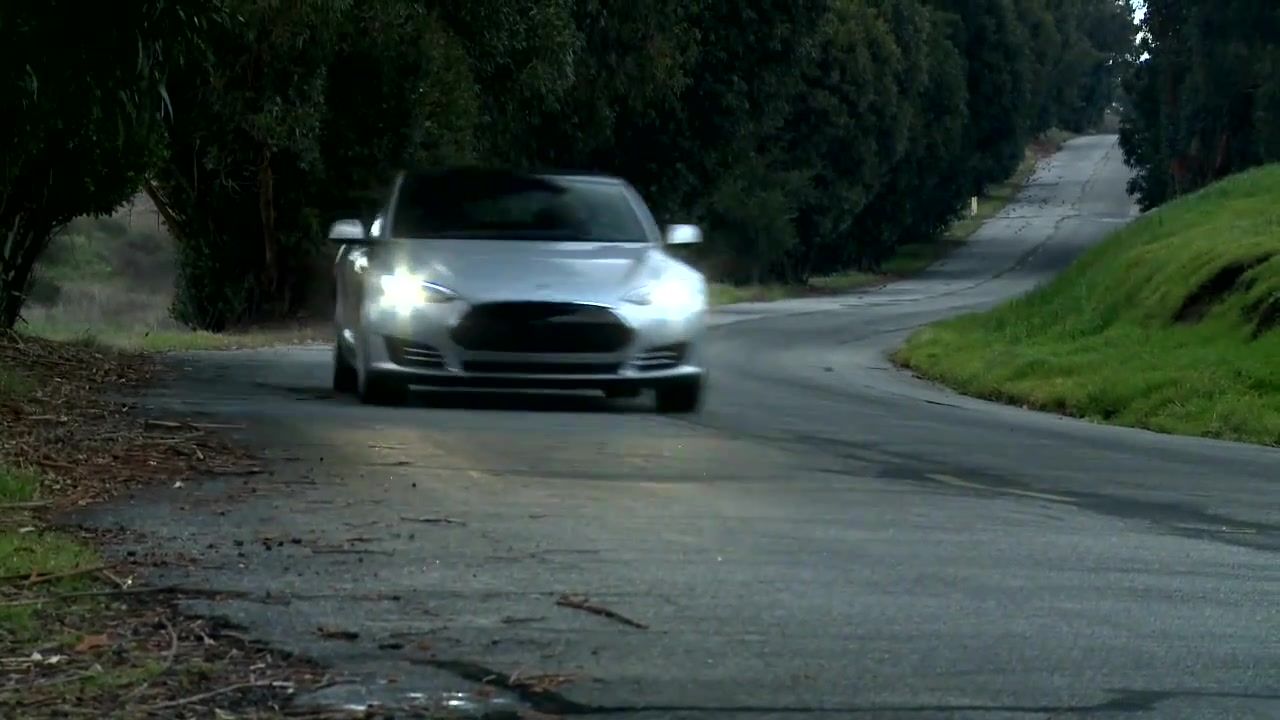car: (320, 159, 715, 419)
